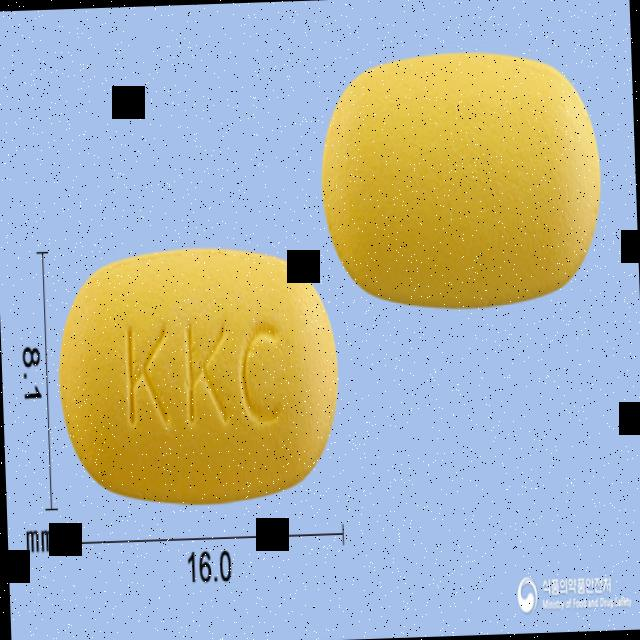Clarion: (49, 238, 347, 516)
